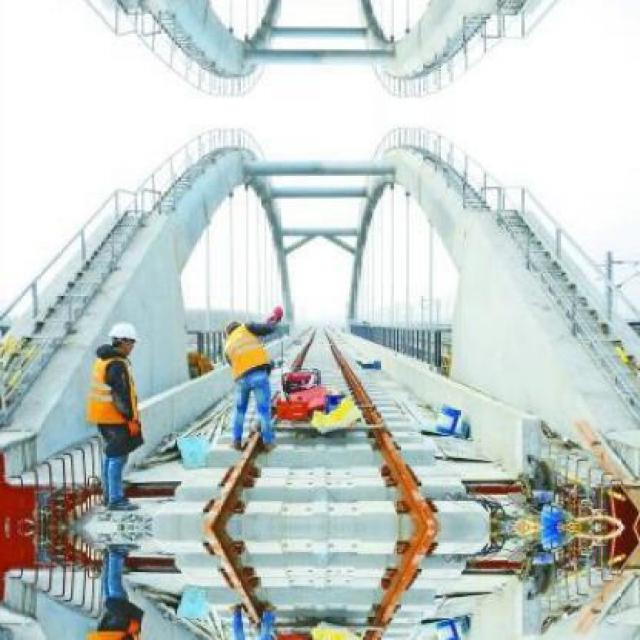Reflective-Jacket: (80, 352, 149, 442), (220, 320, 277, 386)
Safety-Helmet: (103, 315, 145, 350), (218, 314, 250, 338)
